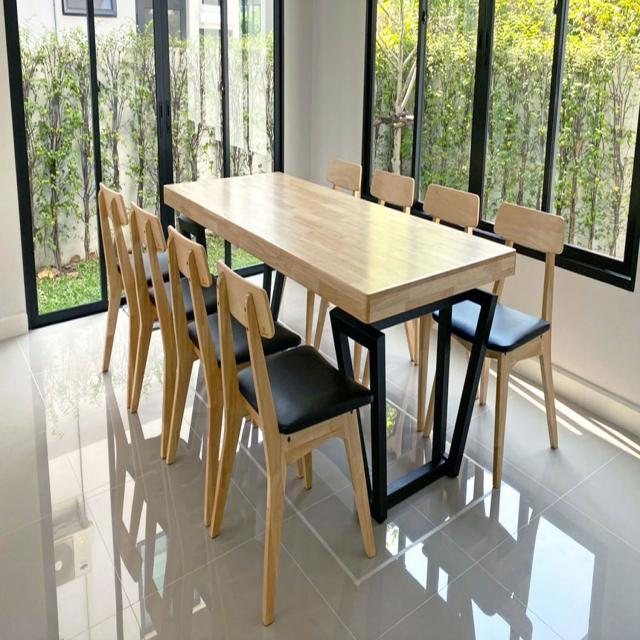table: (160, 161, 524, 323)
